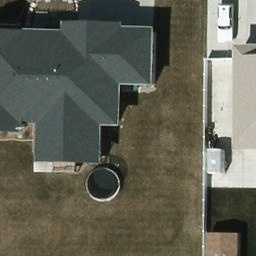car: (218, 2, 234, 42)
